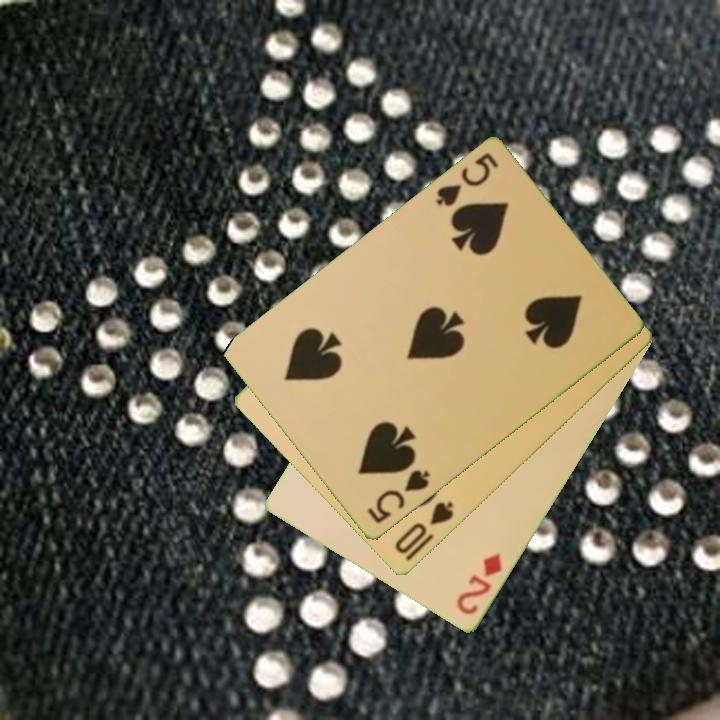10s: (391, 498, 457, 558)
2d: (453, 549, 506, 619)
5s: (363, 466, 434, 527), (432, 149, 502, 210)
